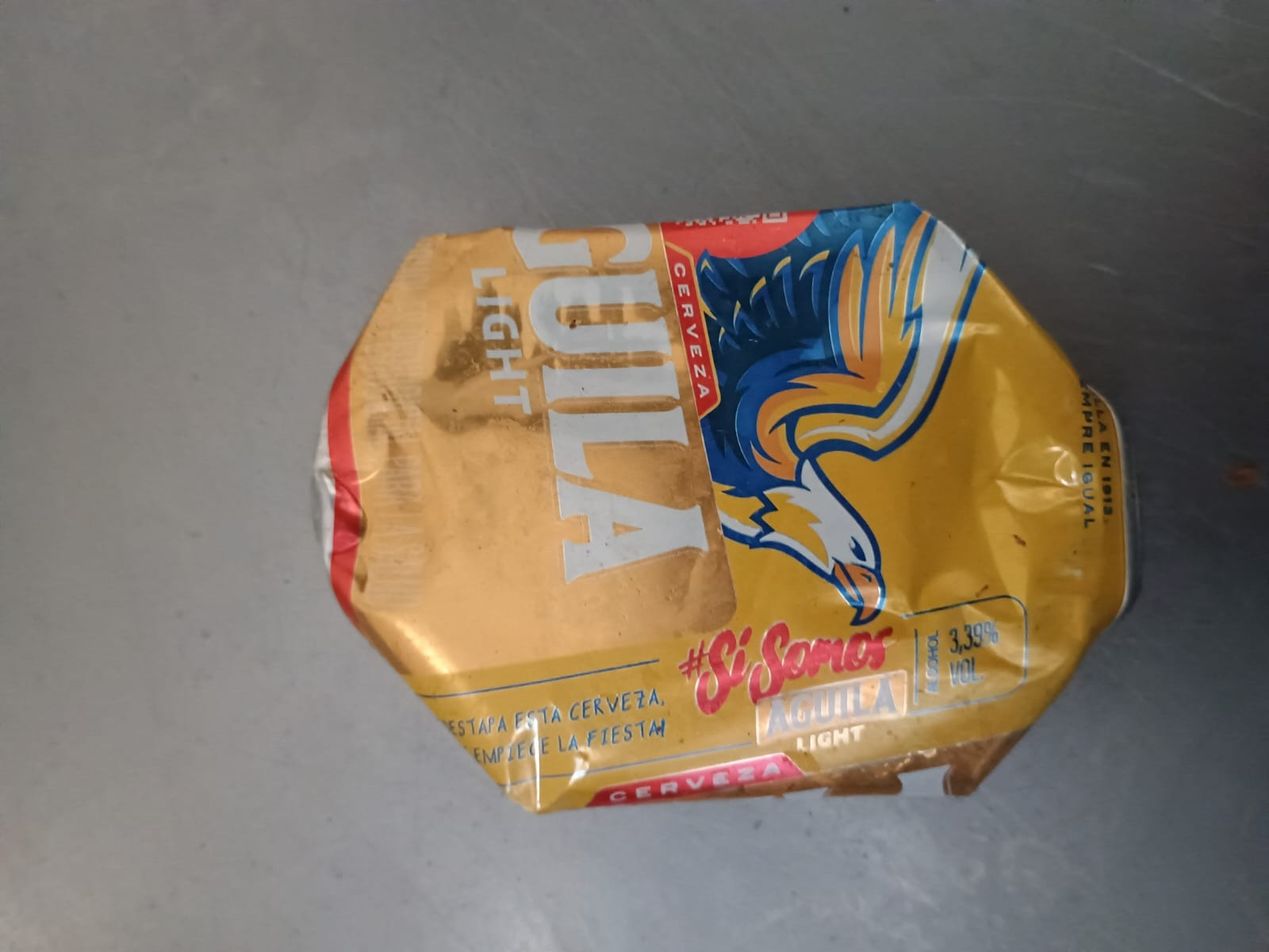Metal: (315, 202, 1138, 810)
